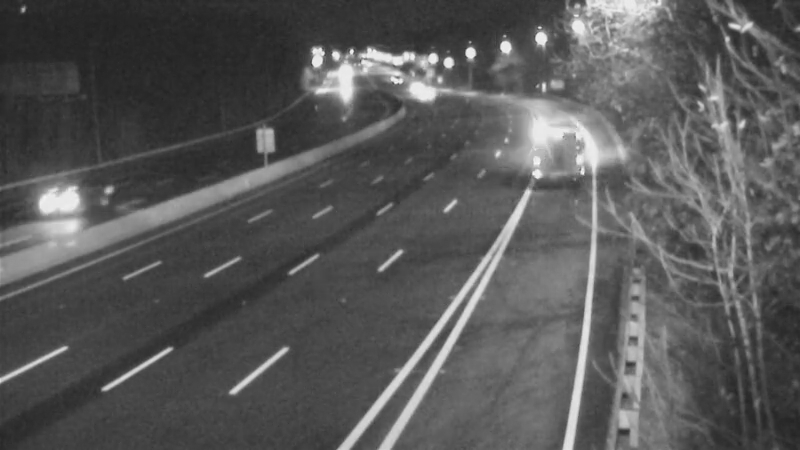vehicle: (19, 158, 99, 238), (388, 61, 438, 111), (400, 70, 450, 120), (527, 109, 577, 159)
